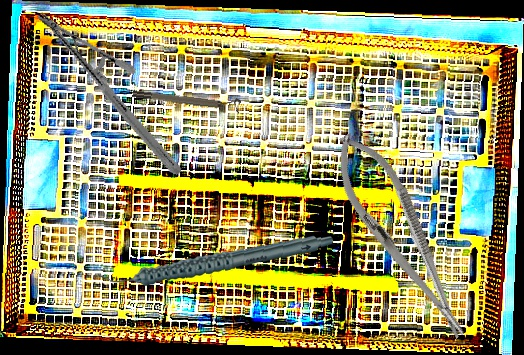Fixation Ring: (131, 84, 242, 114)
Handpiece: (97, 222, 334, 298)
Needle Holder: (319, 122, 484, 351), (3, 11, 216, 176)
